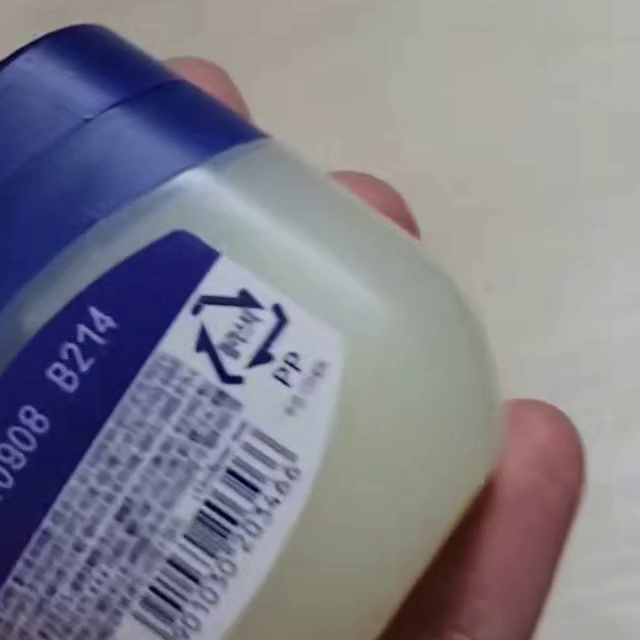Plastic: (189, 288, 290, 385)
